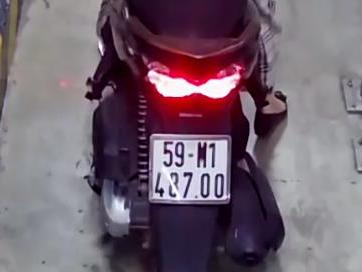num_plate: (148, 134, 232, 205)
